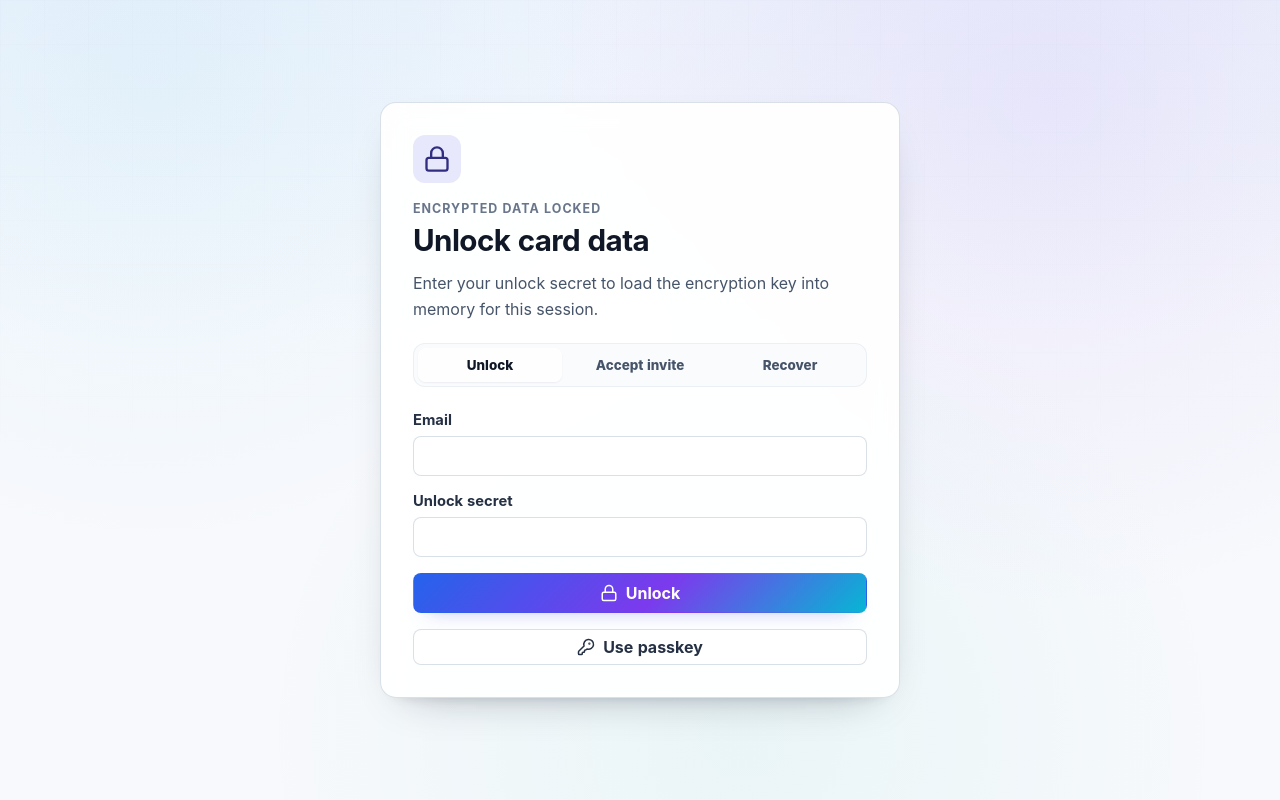
App › resets an unlock secret with a recovery code from the locked screen
Expected: the heading "Unlock card data" is shown, [413,222,649,258]
Click the button with aria-label "show recovery form".
click(790, 365)  # box [718,348,862,382]
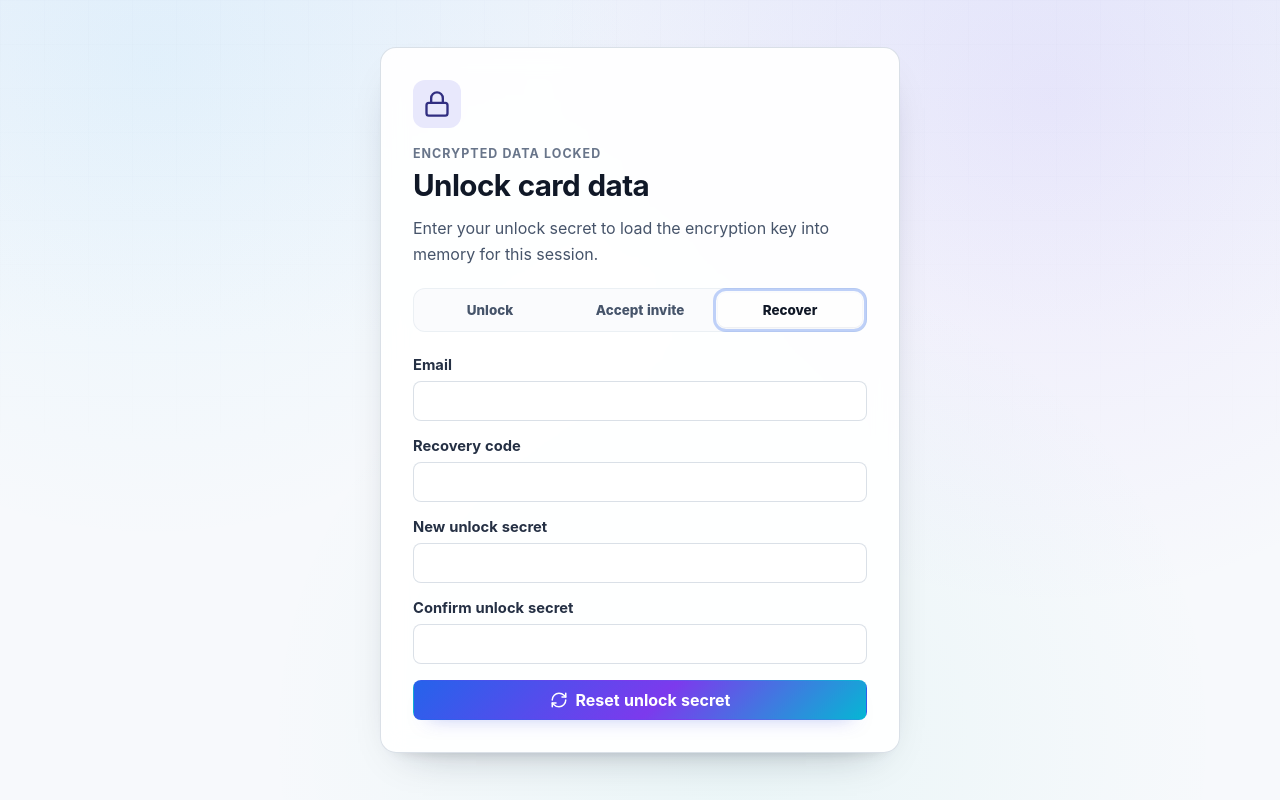
Type "owner@example.com" into the field labelled "Email".
click(640, 401); type("owner@example.com")  # box [413,381,867,421]
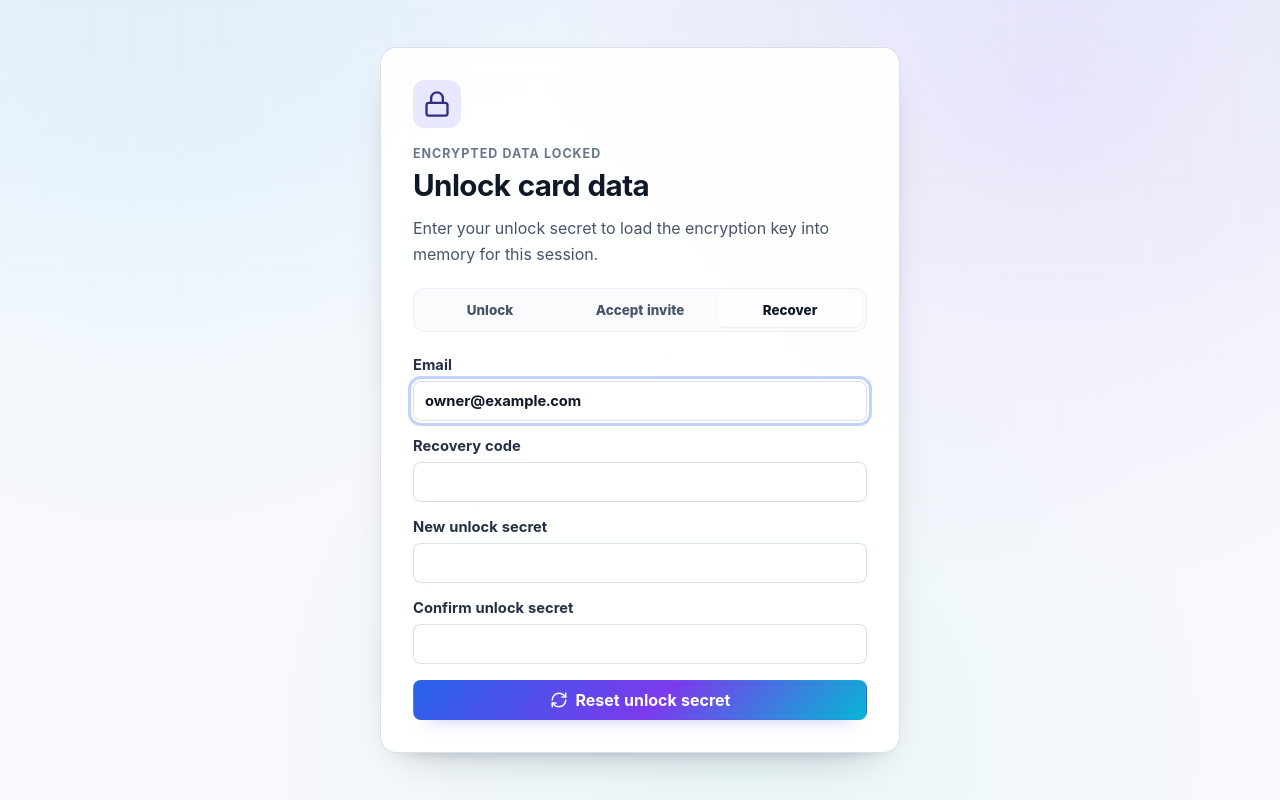
Type "GC-REC-ABCD-EFGH-IJKL-MNOP-QRST-UVWX" into the field labelled "Recovery code".
click(640, 482); type("GC-REC-ABCD-EFGH-IJKL-MNOP-QRST-UVWX")  # box [413,462,867,502]
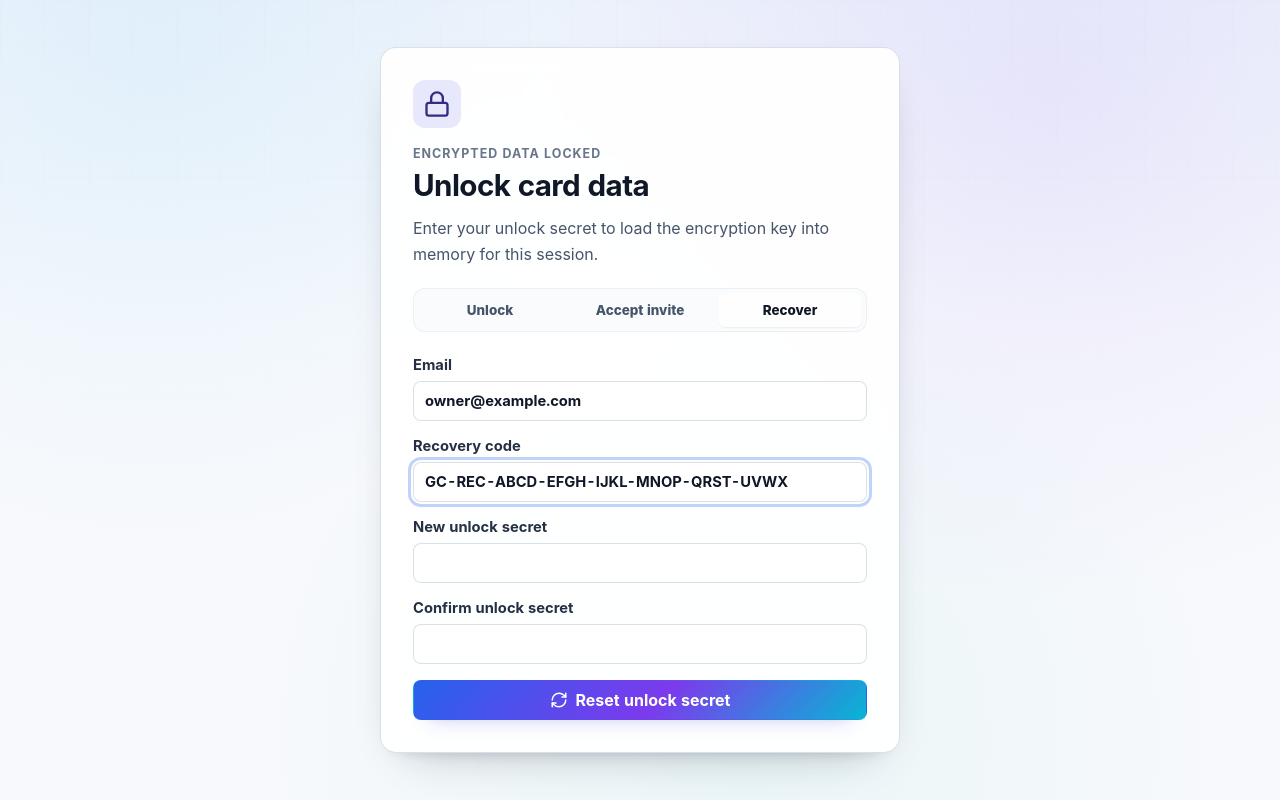
Type "recovered strong unlock phrase" into the password field labelled "New unlock secret".
click(640, 563); type("recovered strong unlock phrase")  # box [413,543,867,583]
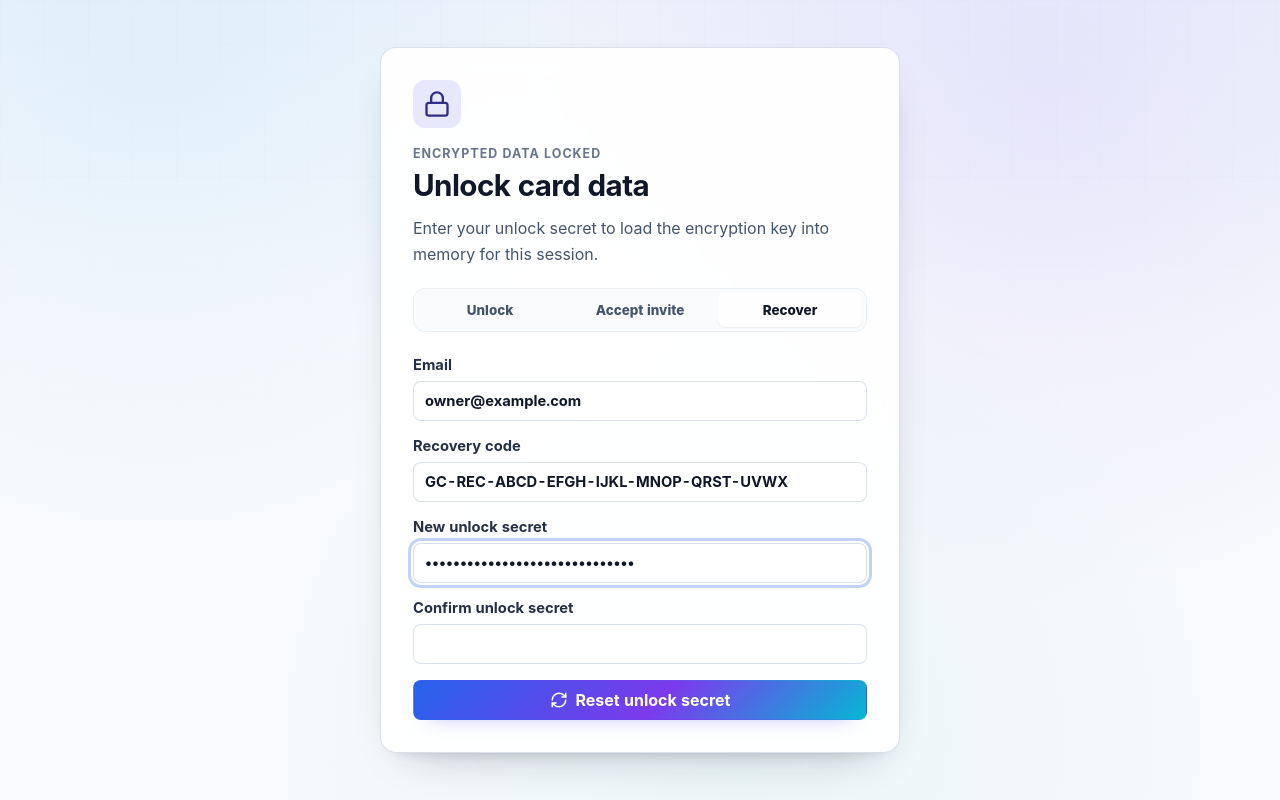
Type "recovered strong unlock phrase" into the password field labelled "Confirm unlock secret".
click(640, 644); type("recovered strong unlock phrase")  # box [413,624,867,664]
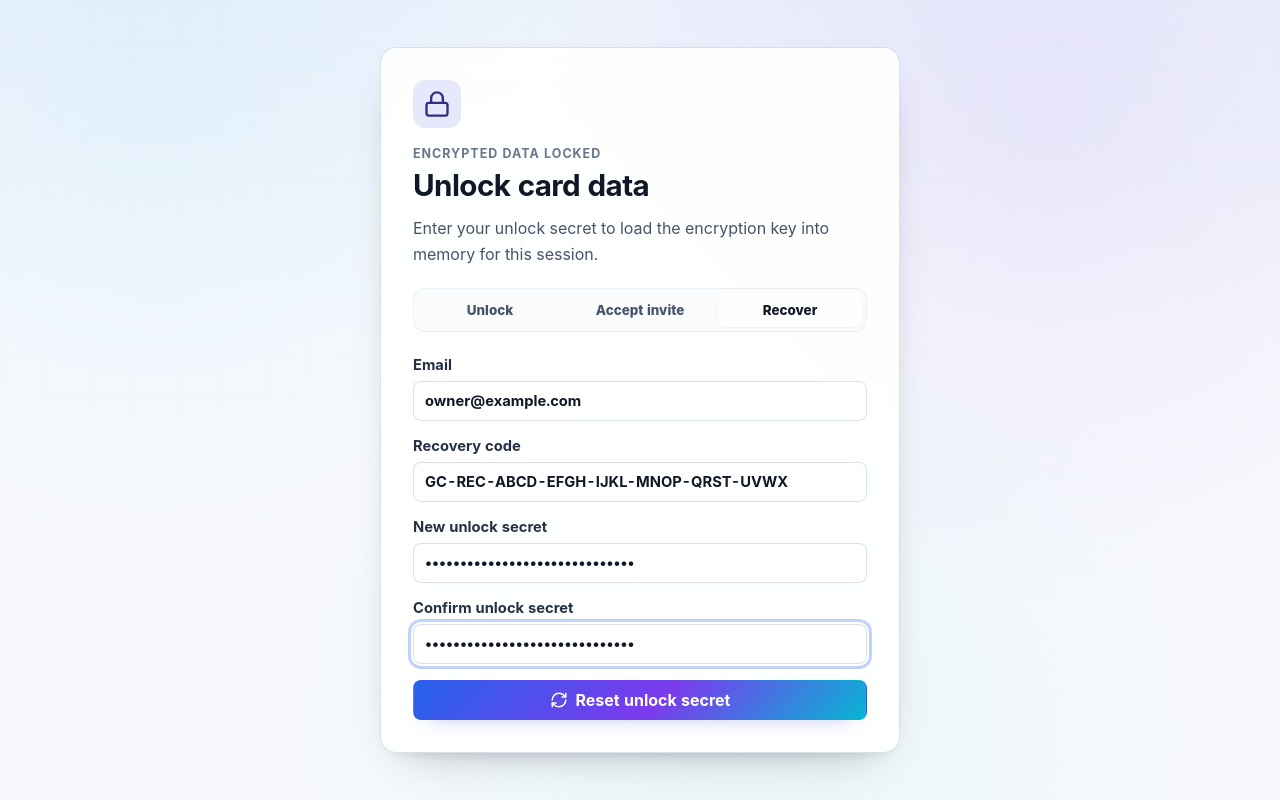
Click the button "Reset unlock secret".
click(640, 700)  # box [413,680,867,720]
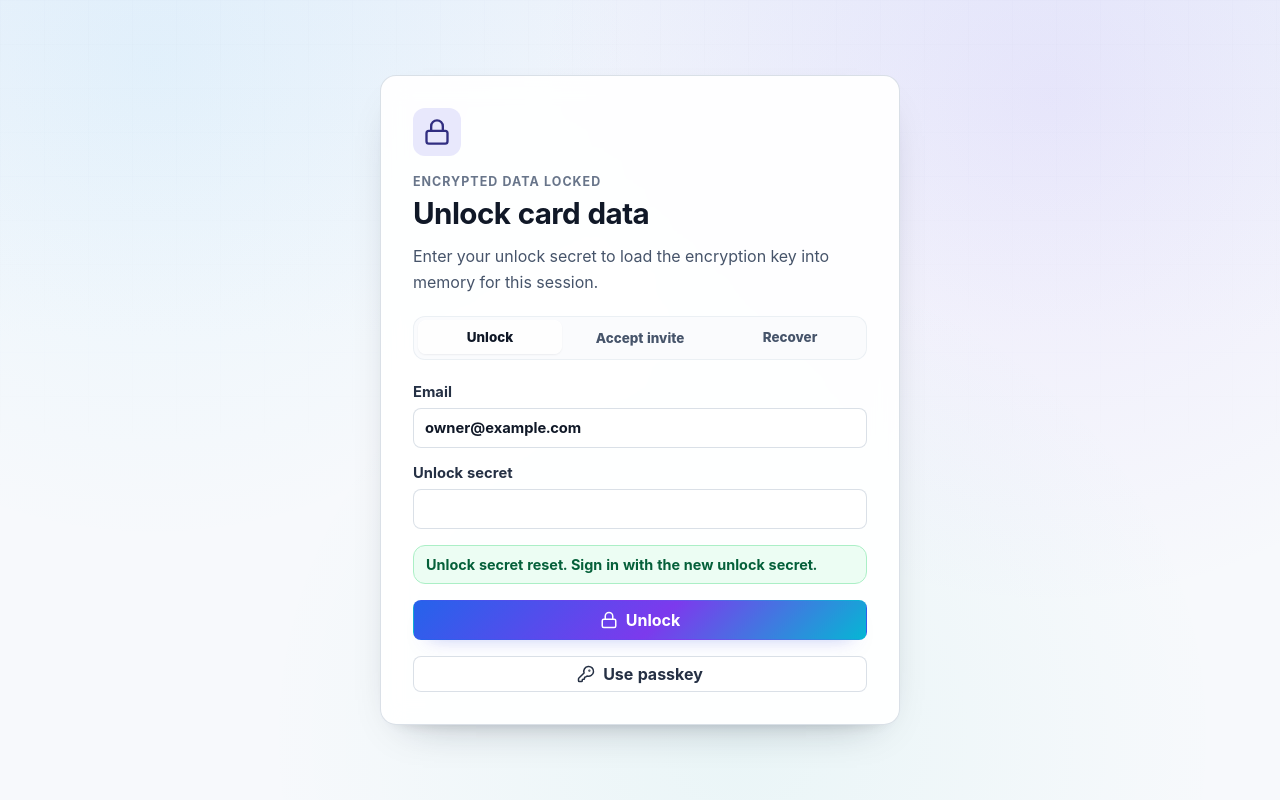
Now the text "Unlock secret reset. Sign in with the new unlock secret." is shown, box [413,545,867,584]
